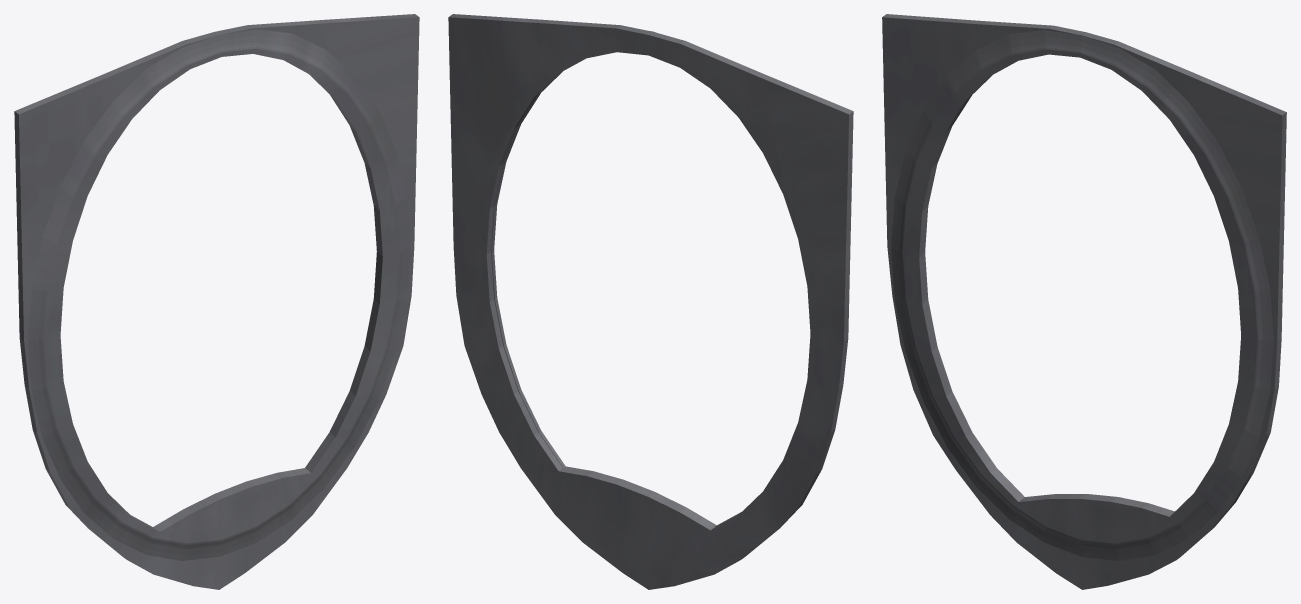
Rendered from Taunt.glb.
3 views of the same model, side by side, from view 1: azimuth 30°, elevation 25°; view 2: azimuth 150°, elevation 25°; view 3: azimuth 330°, elevation 25° (orthographic).
Parts seen in each view (by area): view 1: Circle.007; view 2: Circle.007; view 3: Circle.007.
Boxes of the visible parts, x1,y1,x2,y2 form: Circle.007: (14,14,419,589); Circle.007: (448,14,853,589); Circle.007: (882,14,1286,589).
Size of the model in its own units: 5.78 by 7.65 by 0.1689.
1 material, 1 textured.
